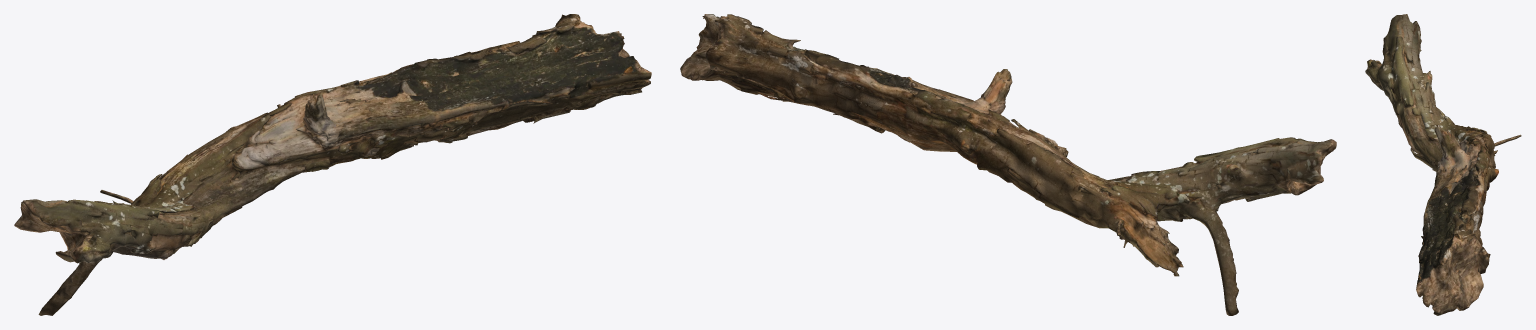
The model's file is dead_tree_trunk_02.glb.
The picture shows the model from 3 angles, left to right: view 1: azimuth 30°, elevation 25°; view 2: azimuth 150°, elevation 25°; view 3: azimuth 270°, elevation 25°; orthographic projection. The views are drawn at different scales.
Visible parts, largest first — view 1: dead_tree_trunk_02; view 2: dead_tree_trunk_02; view 3: dead_tree_trunk_02.
Part boxes in pixels (left/top/right/bottom): dead_tree_trunk_02: left=14, top=14, right=651, bottom=315; dead_tree_trunk_02: left=680, top=14, right=1336, bottom=315; dead_tree_trunk_02: left=1365, top=14, right=1521, bottom=315.
Bounding box in the file's own units: 4.05 × 1.05 × 1.05.
Materials: 1 (1 with a texture image).
